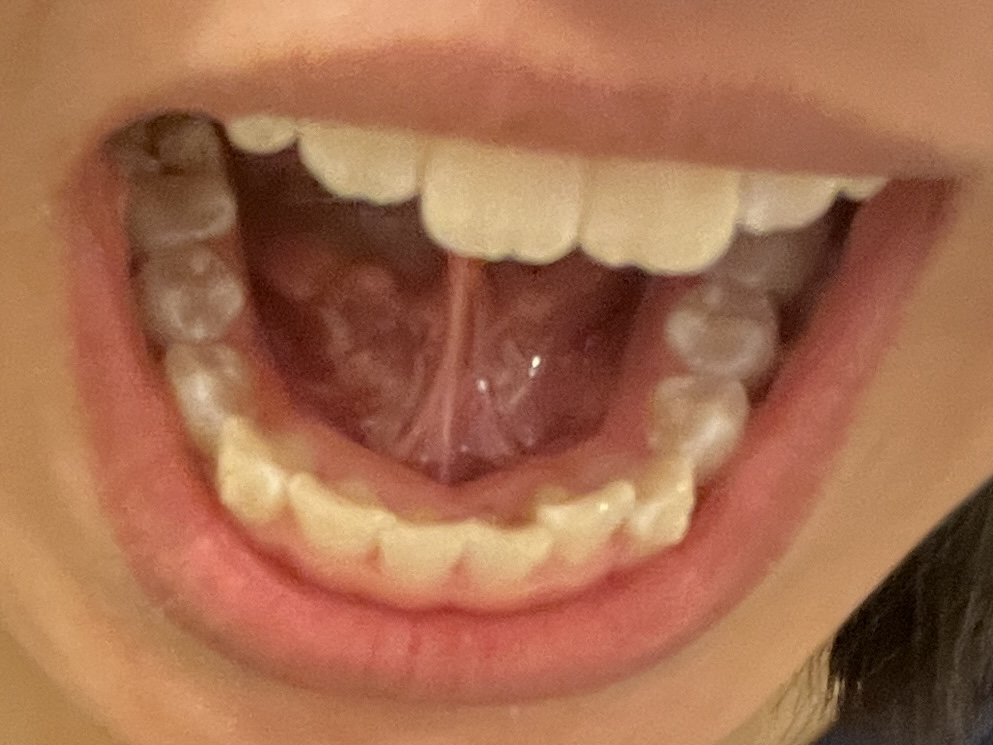teeth: (430, 141, 578, 261), (589, 161, 738, 264), (117, 119, 220, 243), (131, 249, 245, 343), (164, 347, 263, 453), (213, 430, 312, 531), (648, 379, 751, 476), (674, 284, 772, 376), (296, 478, 393, 562), (306, 128, 417, 200), (537, 484, 626, 562), (461, 510, 543, 591), (383, 508, 457, 590), (627, 461, 689, 544)
